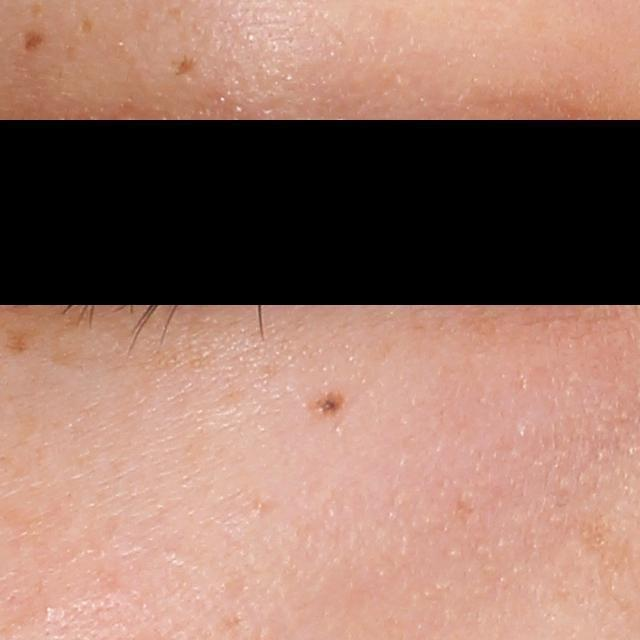melasma: (45, 341, 105, 378), (4, 327, 40, 356), (20, 28, 53, 57), (171, 53, 200, 80), (27, 0, 47, 22), (80, 14, 95, 40)
nevus: (307, 390, 346, 421)
